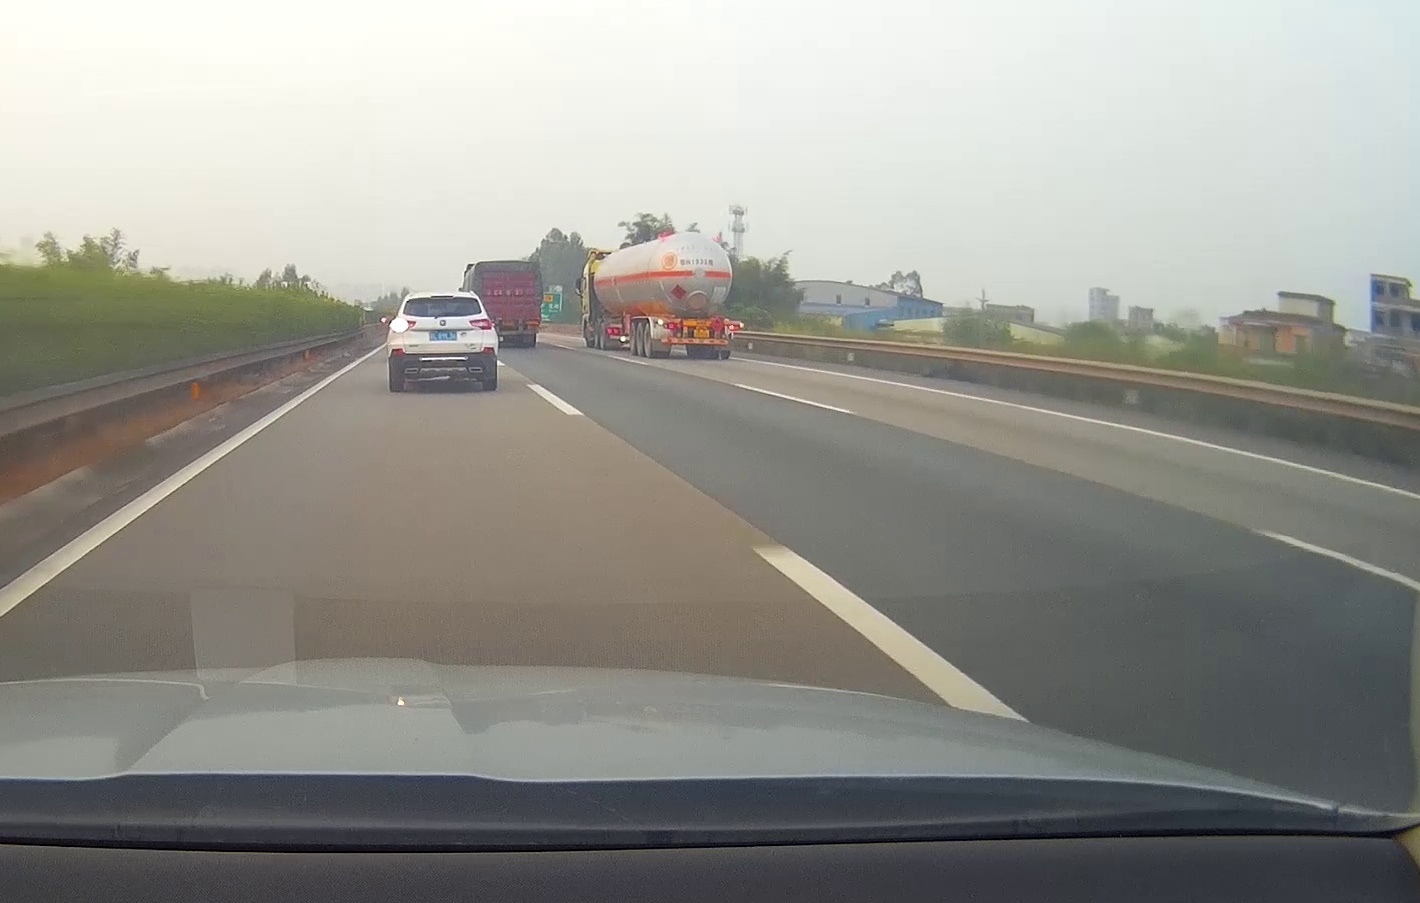L_light: (389, 317, 416, 332), (663, 323, 676, 329)
R_light: (469, 318, 492, 330), (728, 324, 740, 331)
T_light: (430, 295, 453, 299), (697, 320, 707, 324)
day-left: (385, 291, 497, 391)
day-no: (652, 315, 745, 360)
